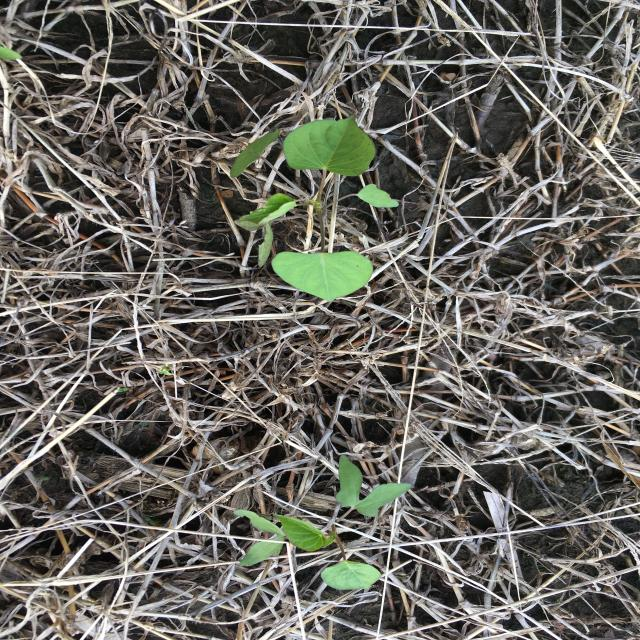MorningGlory: (226, 108, 402, 305), (231, 453, 414, 594)
